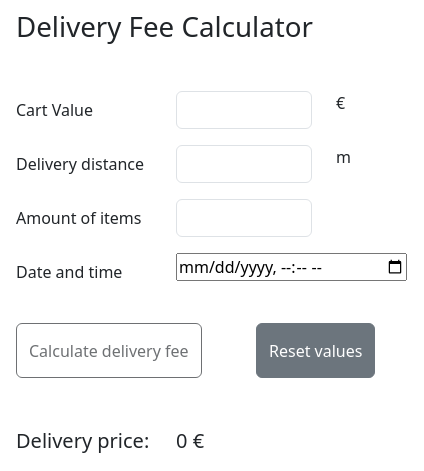
Scenario: App Component › calculates delivery fee correctly
Type "100" into the number field with test id "cartValue" at (244,110), box [176,91,312,129]
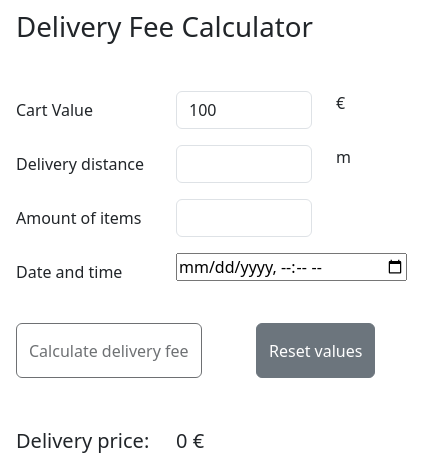
Type "500" into the number field with test id "deliveryDistance" at (244,164), box [176,145,312,183]
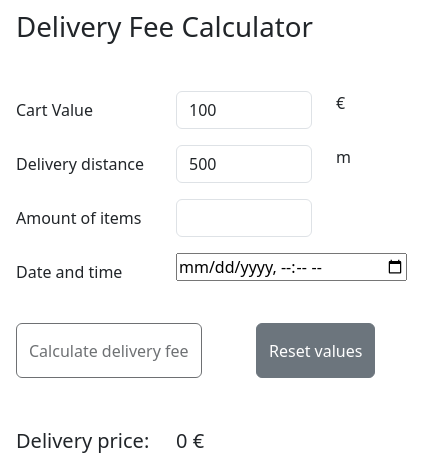
Type "3" into the number field with test id "numberOfItems" at (244,218), box [176,199,312,237]
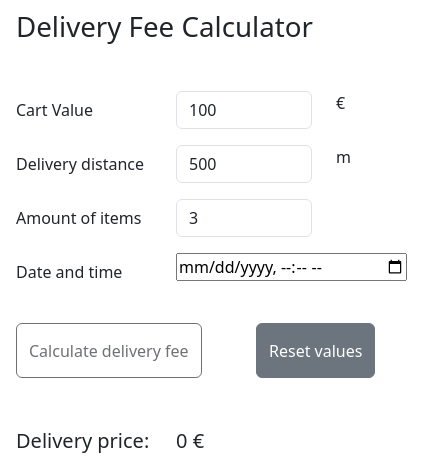
Type "2024-01-30T20:17:46" into the field with test id "orderTime" at (292,267), box [176,253,407,281]
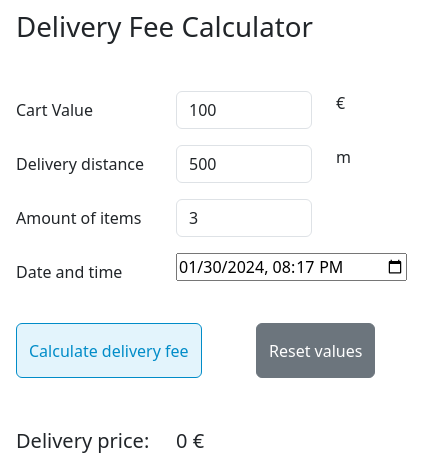
Click the button "Calculate delivery fee" at (109,351), box [16,323,202,378]
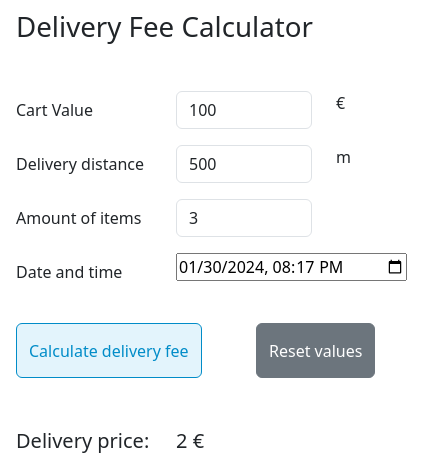
Expected: the text with test id "fee" shows "2", [176,427,188,454]
